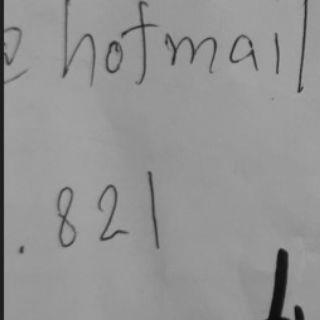.: (17, 244, 29, 255)
1: (141, 159, 166, 250)
2: (94, 182, 131, 242)
8: (41, 180, 82, 251)
